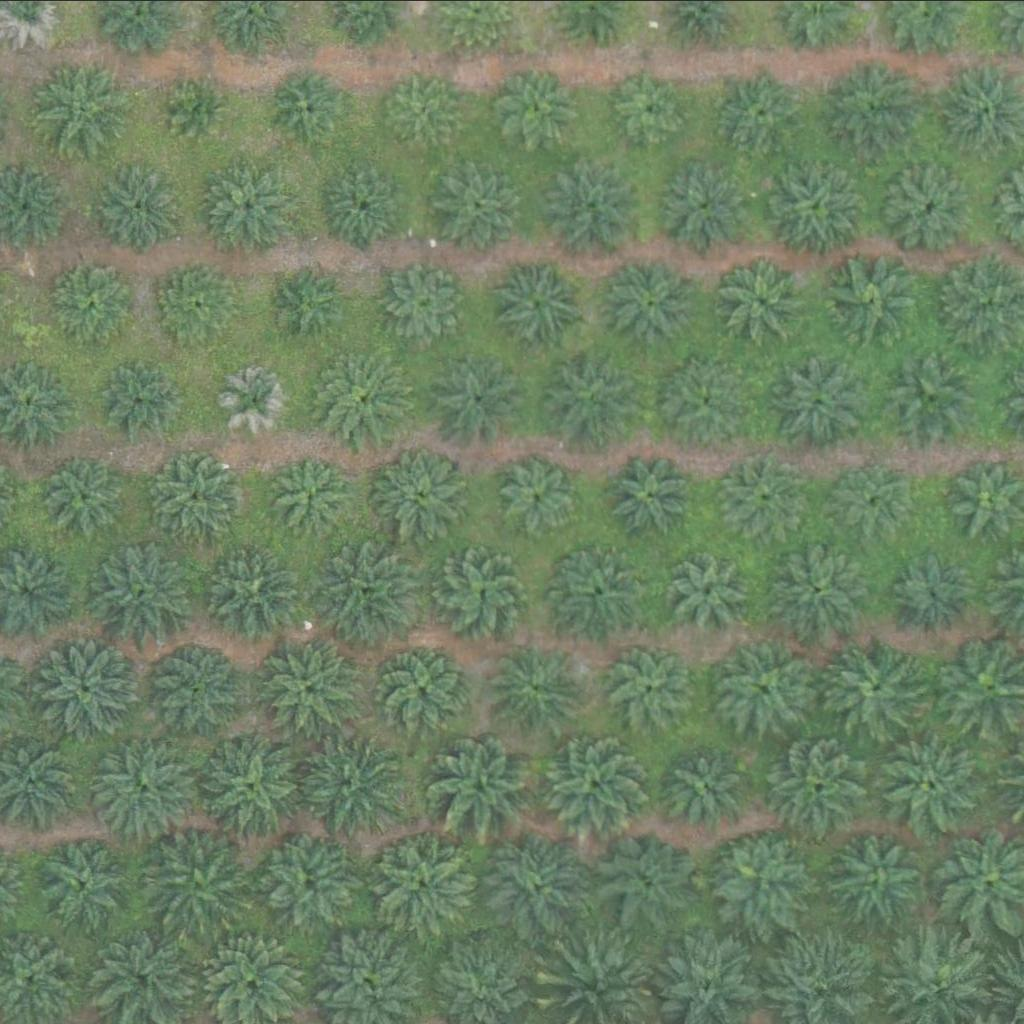Kelapa_Sawit: (139, 821, 253, 934), (196, 729, 310, 842), (295, 721, 409, 834), (86, 534, 199, 647), (427, 727, 540, 840), (537, 725, 650, 838), (89, 732, 203, 844), (311, 535, 425, 647), (30, 628, 143, 740), (873, 727, 986, 839), (258, 827, 359, 927), (202, 541, 303, 641), (311, 343, 412, 443), (545, 160, 646, 260), (376, 255, 477, 355), (486, 255, 587, 355), (426, 349, 527, 449), (767, 536, 868, 636), (486, 638, 587, 738), (714, 637, 815, 737), (831, 637, 932, 737), (768, 733, 869, 833), (373, 834, 474, 934), (485, 837, 586, 937), (601, 828, 702, 928), (711, 827, 812, 927), (825, 830, 926, 930), (879, 346, 980, 446), (35, 829, 135, 929), (146, 637, 246, 737), (263, 635, 363, 735), (34, 54, 134, 154), (826, 57, 926, 157), (765, 157, 865, 257), (822, 251, 922, 351), (542, 346, 642, 446), (769, 351, 869, 451), (370, 441, 470, 541), (432, 542, 532, 642), (548, 538, 648, 638), (373, 638, 473, 738), (156, 259, 245, 347), (323, 157, 412, 245), (888, 161, 977, 249), (263, 258, 351, 346), (54, 256, 142, 344), (718, 64, 806, 152), (437, 162, 525, 250), (662, 163, 750, 251), (499, 450, 587, 538), (663, 741, 751, 829), (490, 67, 578, 154), (46, 453, 134, 540), (156, 450, 244, 537), (99, 162, 187, 249), (209, 161, 297, 248), (610, 259, 698, 346), (721, 256, 809, 343), (670, 356, 758, 443), (662, 544, 750, 631), (606, 642, 694, 729), (273, 456, 349, 531), (616, 454, 692, 529), (727, 456, 803, 531), (897, 553, 973, 628), (274, 66, 349, 141), (616, 68, 691, 143), (106, 362, 181, 437), (220, 360, 295, 435), (385, 74, 460, 149), (842, 464, 917, 539), (169, 76, 232, 139)
